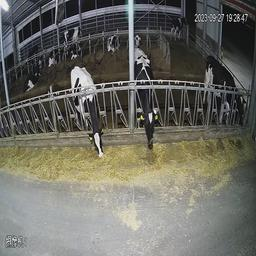cow: (68, 61, 109, 166), (203, 52, 245, 138), (134, 45, 161, 144), (59, 22, 81, 54), (21, 65, 43, 93), (169, 16, 189, 44), (45, 43, 63, 70), (106, 28, 122, 56)
